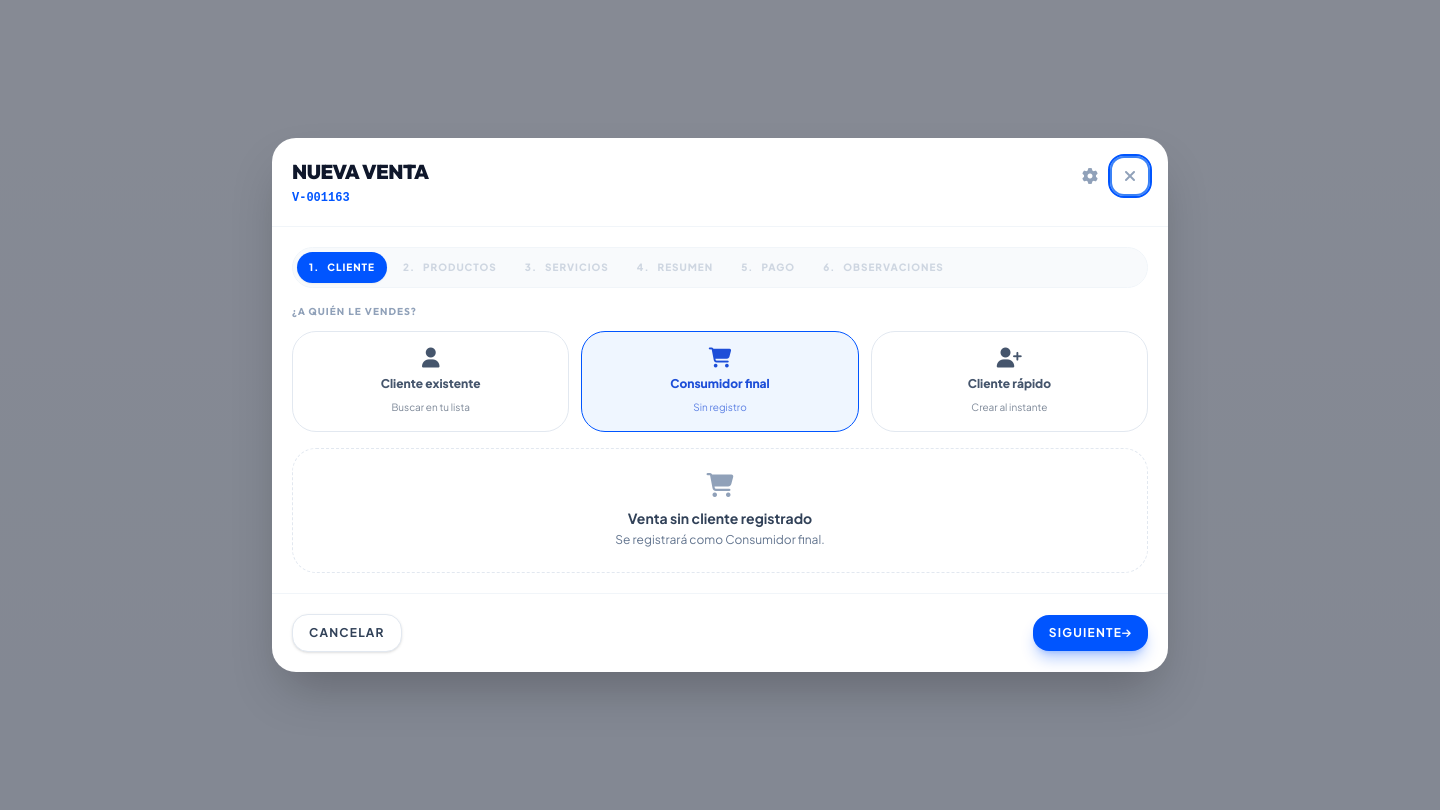
Scenario: CompanyNewSaleModalComponent › debe ajustar cantidades y eliminar líneas
Click the button "Siguiente".
click(1090, 633)  # box [1033,615,1148,651]
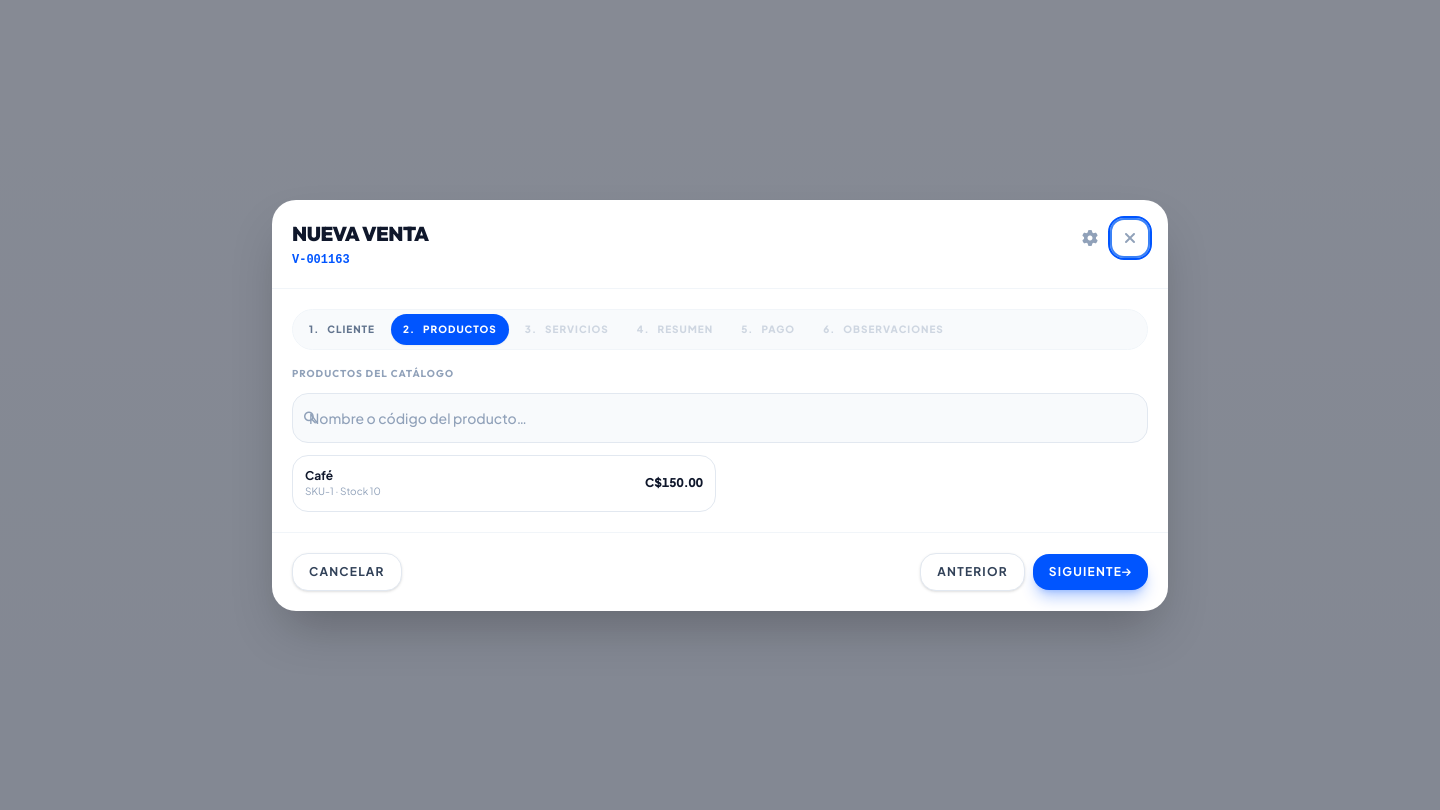
Click the button "Café SKU-1 · Stock 10 C$150.00".
click(343, 490)  # box [292,454,716,512]
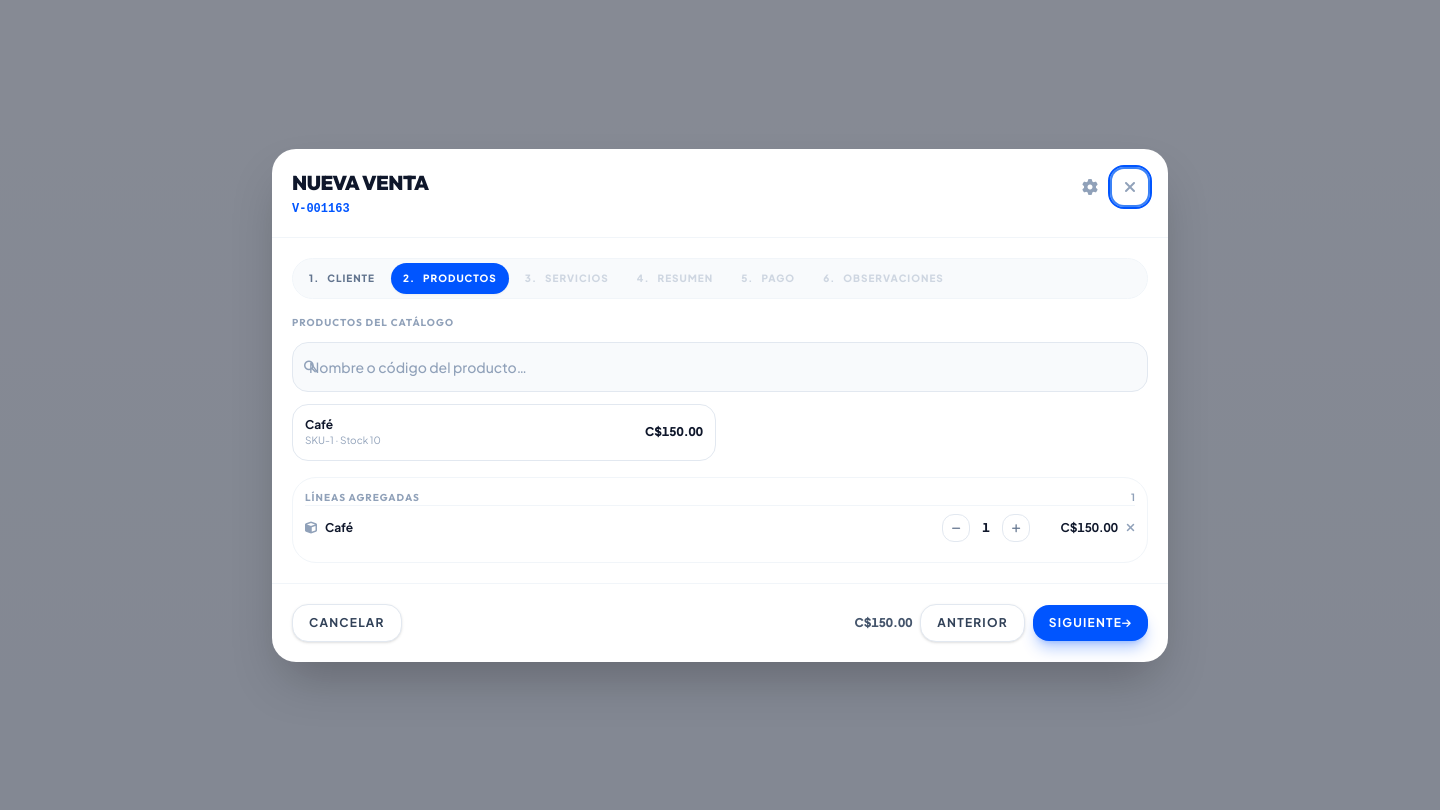
Click the button "Café SKU-1 · Stock 10 C$150.00".
click(343, 440)  # box [292,404,716,460]
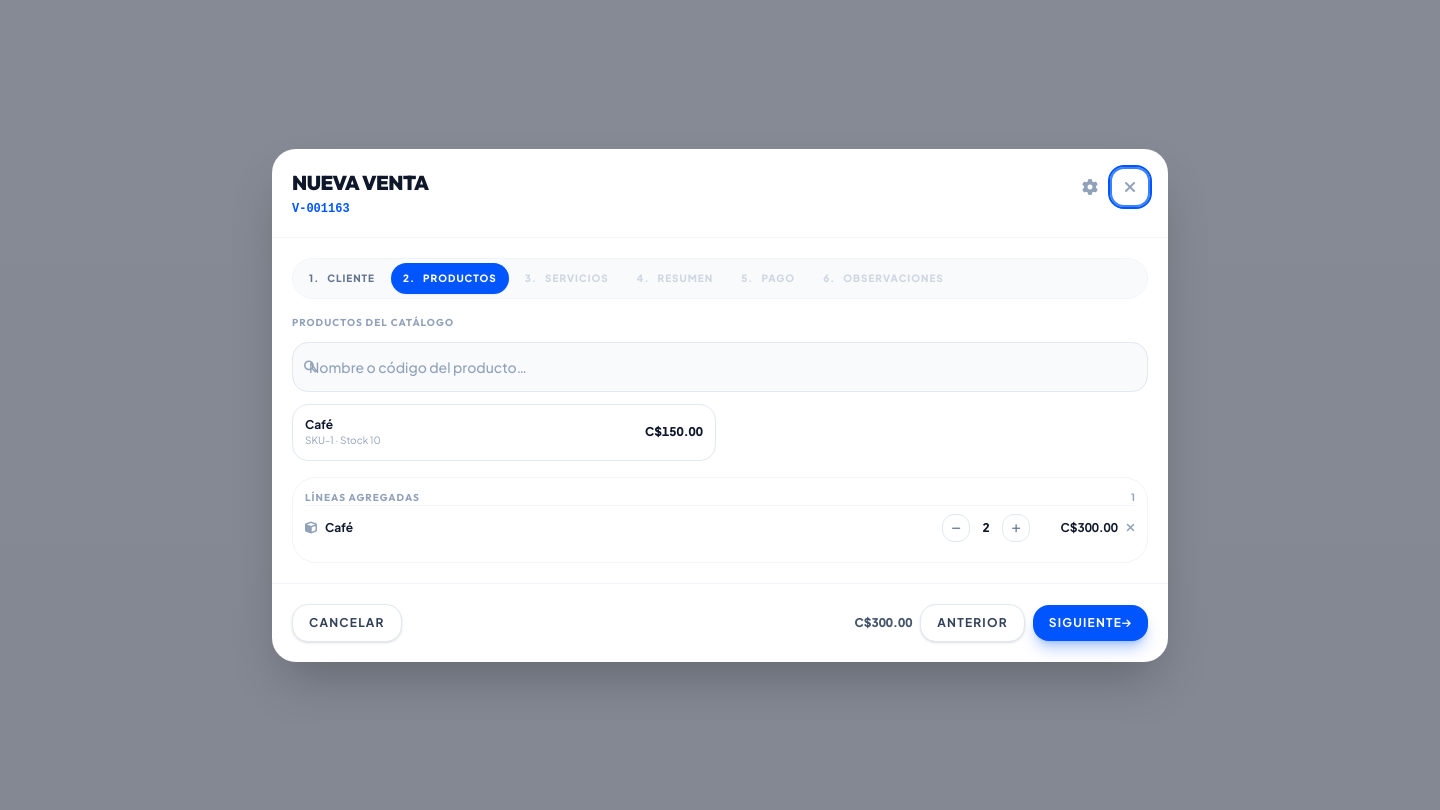
Expected: the text "2" is shown, [403,272,415,284]
Click the button named "Quitar una unidad de Café".
click(956, 528)  # box [942,514,970,542]
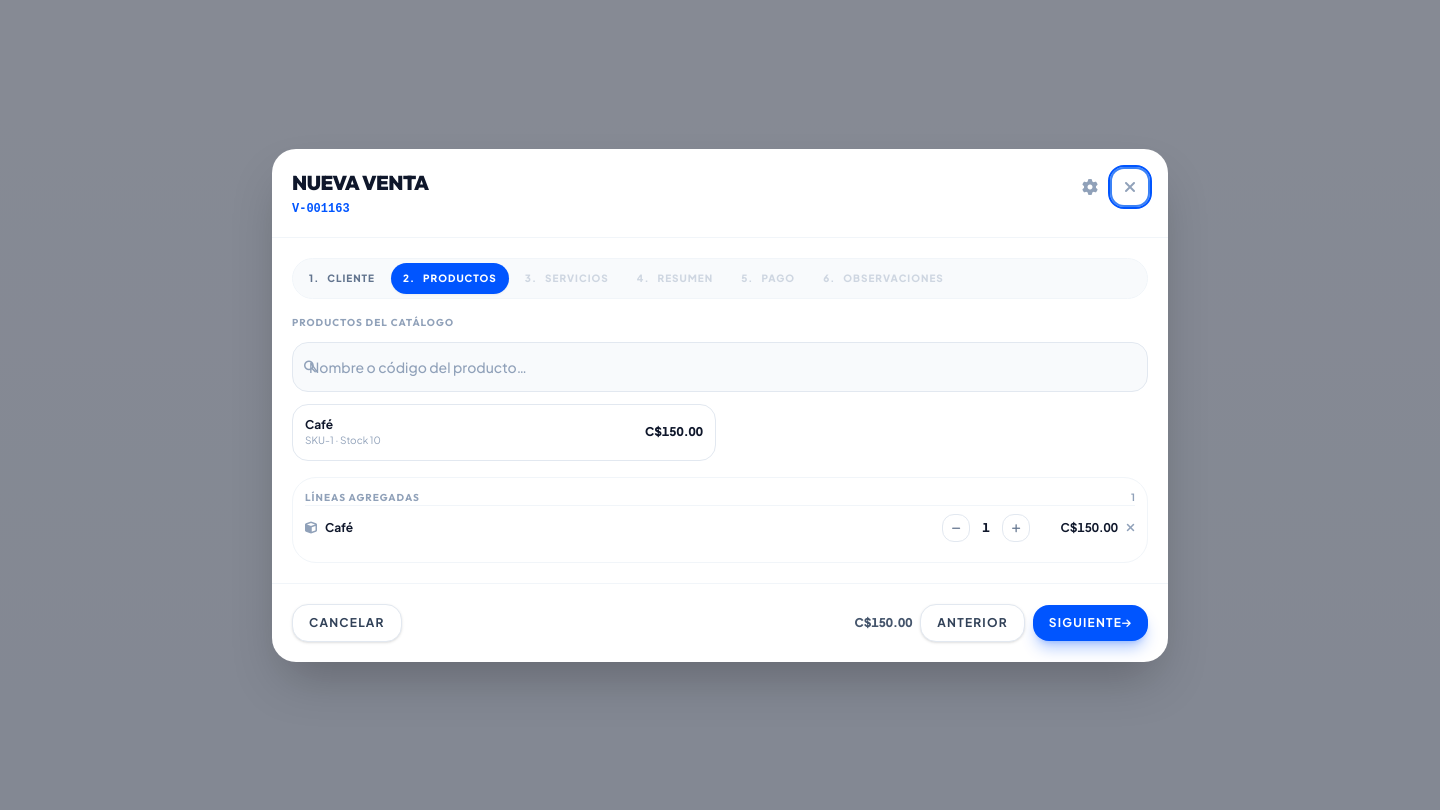
Click the button named "Agregar una unidad de Café".
click(1016, 528)  # box [1002,514,1030,542]
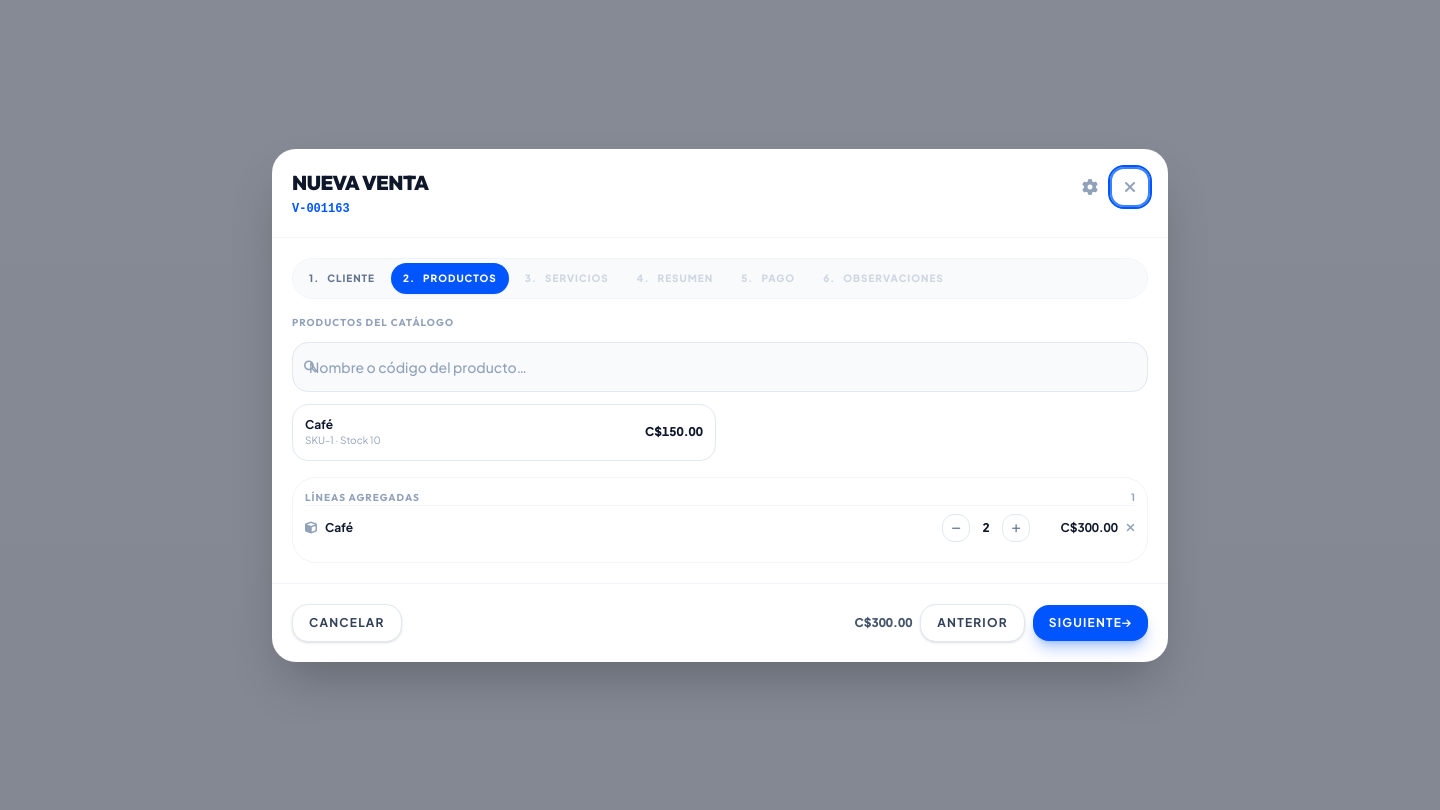
Click the button named "Eliminar Café".
click(1130, 528)  # box [1126,520,1135,536]
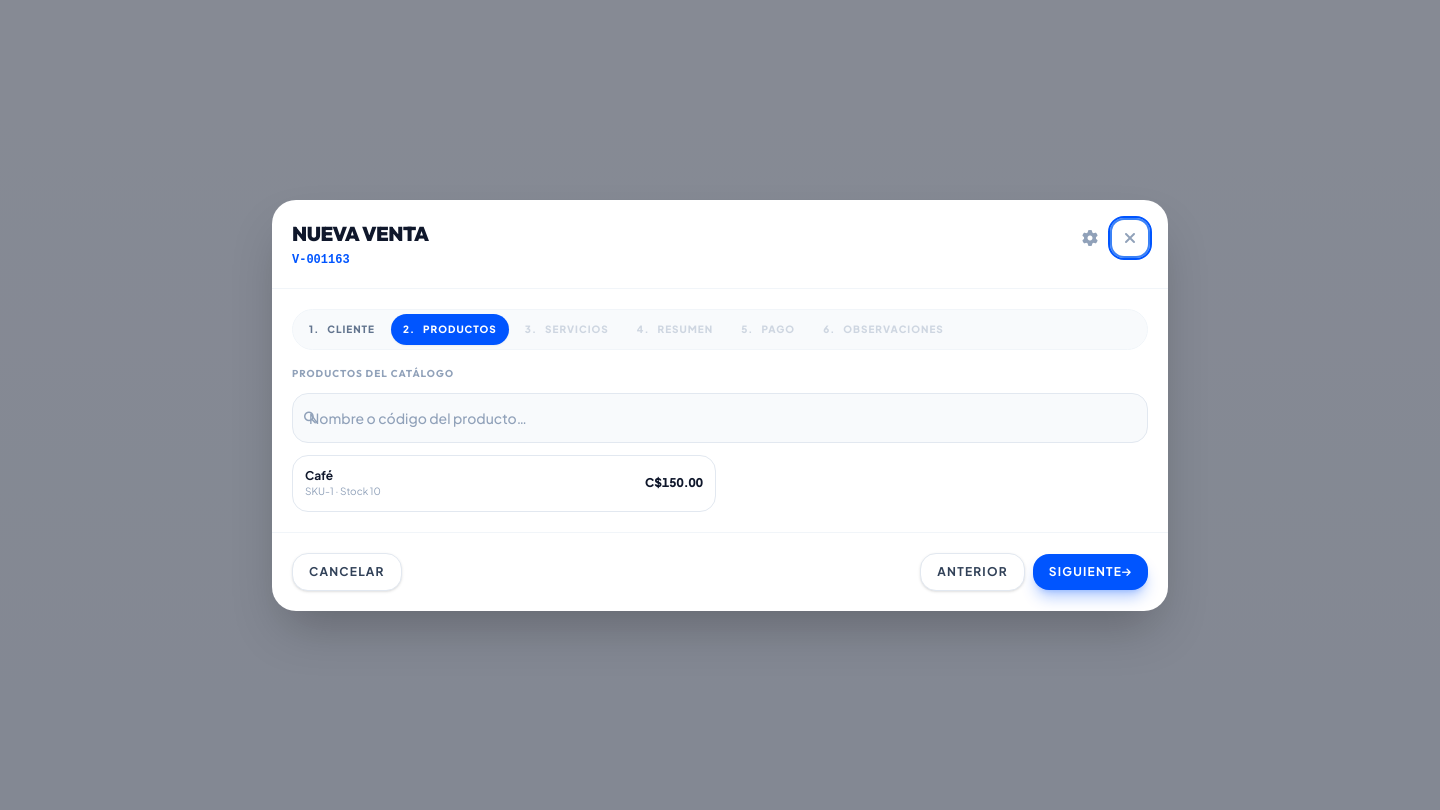
Result: the text "Líneas agregadas" is gone
